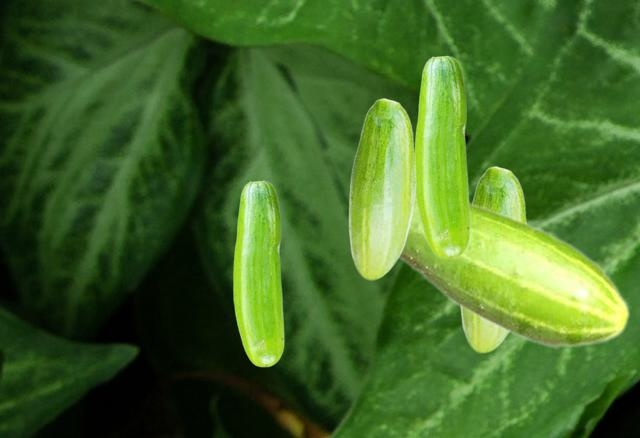cucumber: (399, 199, 630, 349), (460, 166, 526, 352), (348, 98, 415, 279), (414, 55, 469, 258), (233, 180, 283, 366)
